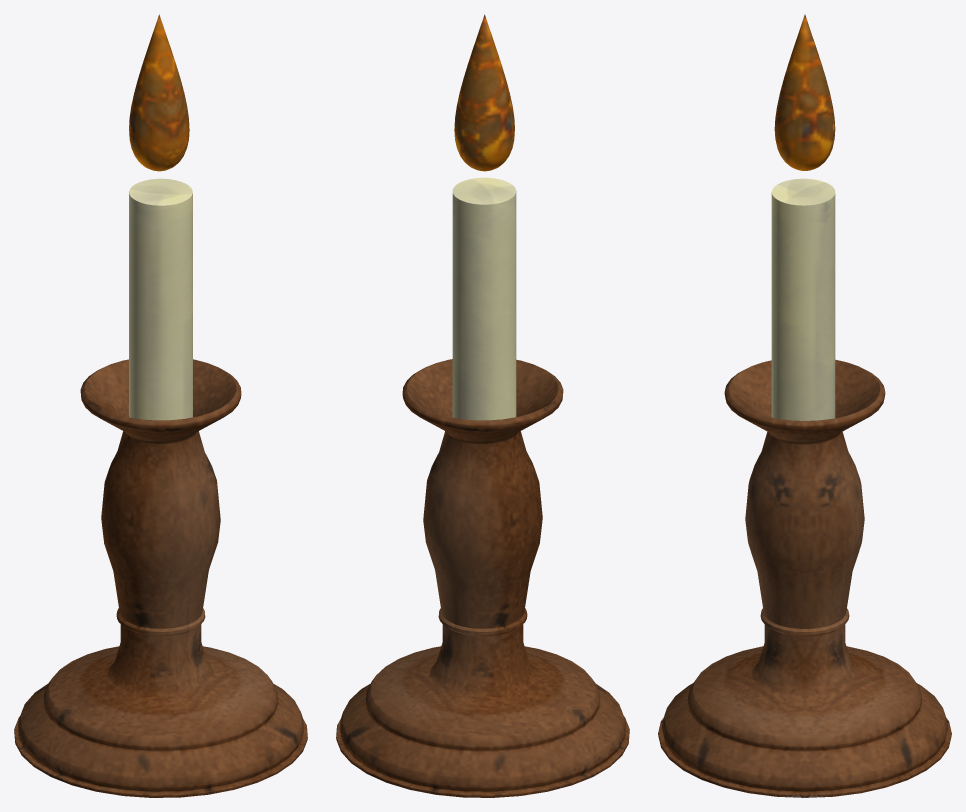
File: Vela.fbx
3 renders of one model, left to right at view 1: azimuth 30°, elevation 25°; view 2: azimuth 150°, elevation 25°; view 3: azimuth 270°, elevation 25°, orthographic.
Parts seen in each view (by area): view 1: Cylinder.003; view 2: Cylinder.003; view 3: Cylinder.003.
Boxes of the visible parts, x1,y1,x2,y2 form: Cylinder.003: (14,14,307,797); Cylinder.003: (336,14,629,797); Cylinder.003: (658,14,951,797).
Size of the model in its own units: 8.88 by 24.04 by 8.88.
